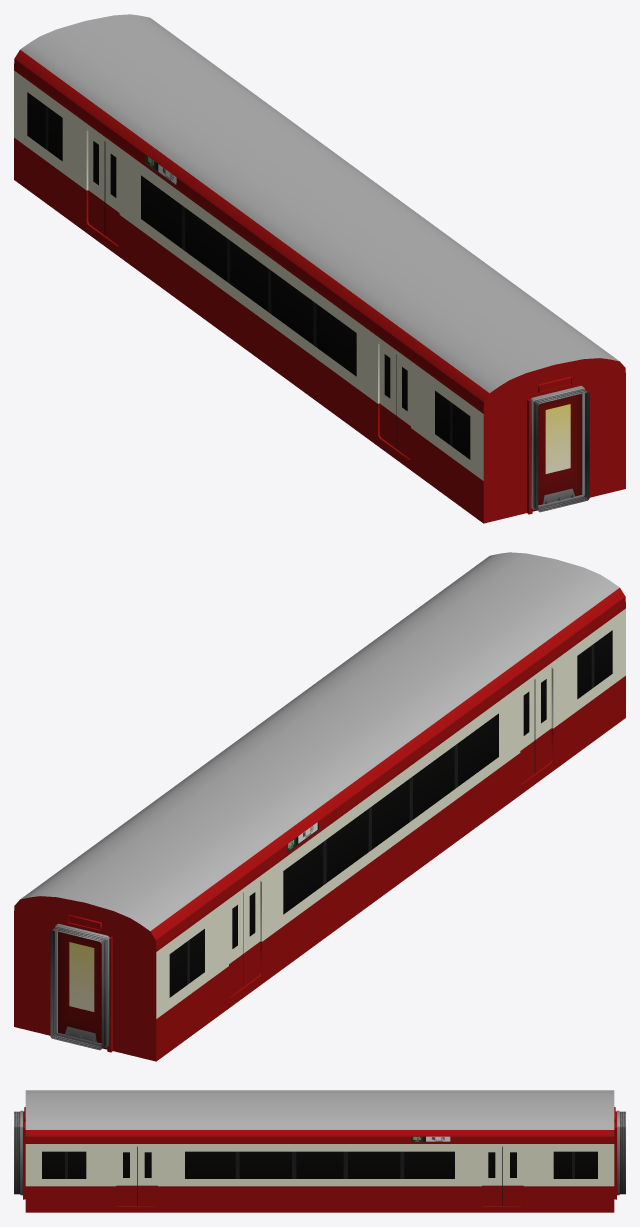
The picture shows the model from 3 angles, top to bottom: view 1: azimuth 30°, elevation 25°; view 2: azimuth 150°, elevation 25°; view 3: azimuth 270°, elevation 25°; orthographic projection. The views are drawn at different scales.
Parts seen in each view (by area): view 1: obj10; view 2: obj10; view 3: obj10, FOR.
Boxes of the visible parts, <box> form: obj10: <box>14,14,625,523</box>; obj10: <box>14,552,625,1061</box>; obj10: <box>14,1090,625,1212</box>; FOR: <box>411,1136,450,1141</box>.
Bounding box in the file's own units: 6.5 × 6.18 × 38.59.
15 materials, 15 textured.
